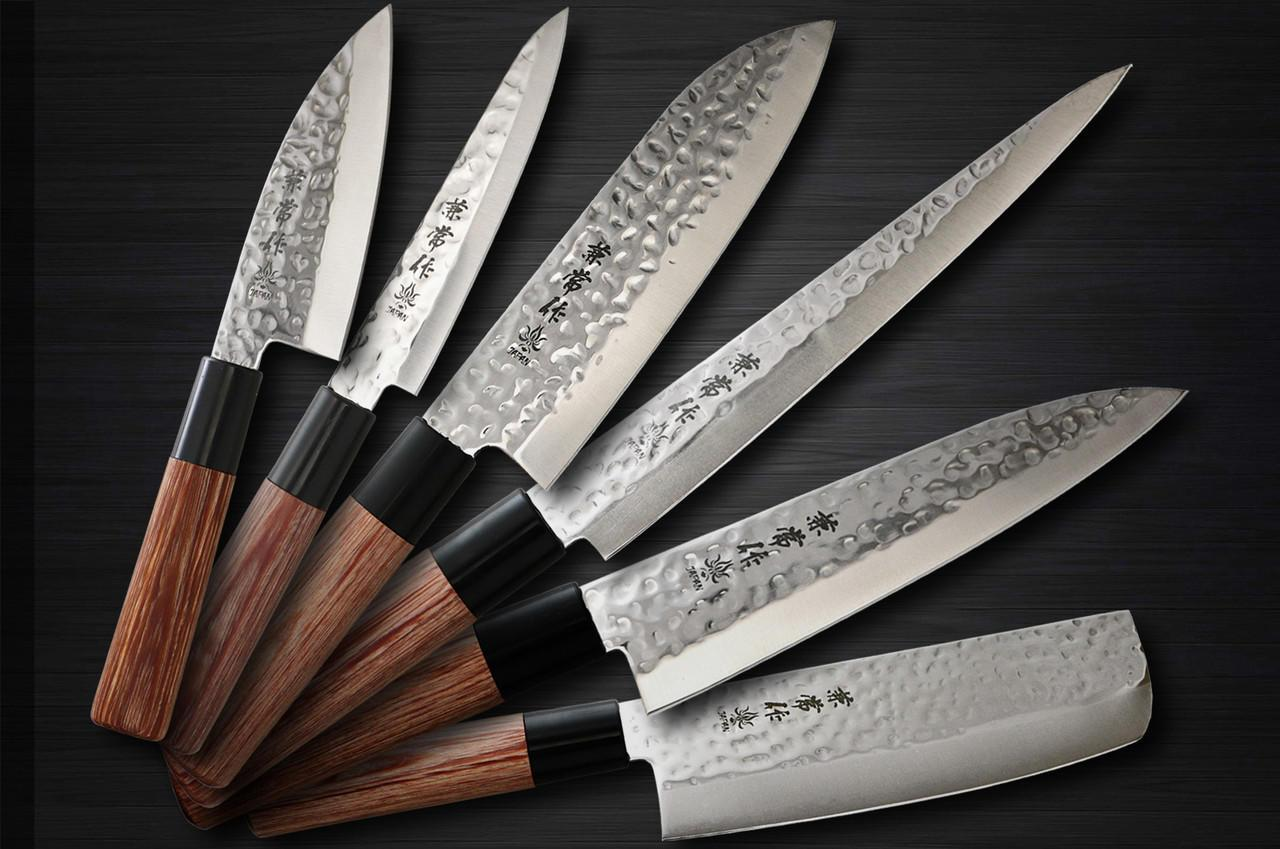Knife: (169, 63, 1136, 807), (164, 18, 839, 787), (189, 387, 1193, 829), (160, 6, 572, 752), (92, 6, 396, 744), (254, 609, 1161, 849)
